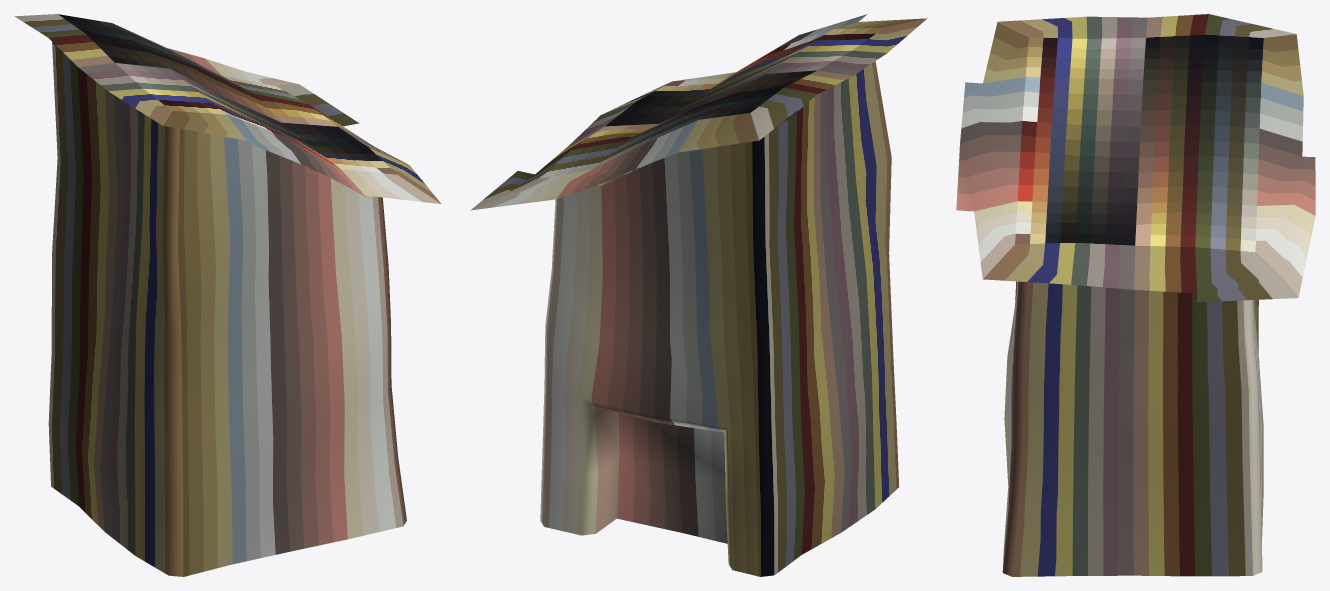
The model's file is MSH_Building_Hole_002.glb.
3 views of the same model, side by side, from view 1: azimuth 30°, elevation 25°; view 2: azimuth 150°, elevation 25°; view 3: azimuth 270°, elevation 25° (orthographic). The views are drawn at different scales.
Visible parts, largest first — view 1: Base.003; view 2: Base.003; view 3: Base.003.
Boxes of the visible parts, x1,y1,x2,y2 form: Base.003: (14,14,441,576); Base.003: (471,14,927,576); Base.003: (956,14,1315,576).
Bounding box in the file's own units: 6.9 × 10 × 7.32.
Materials: 1 (1 with a texture image).
